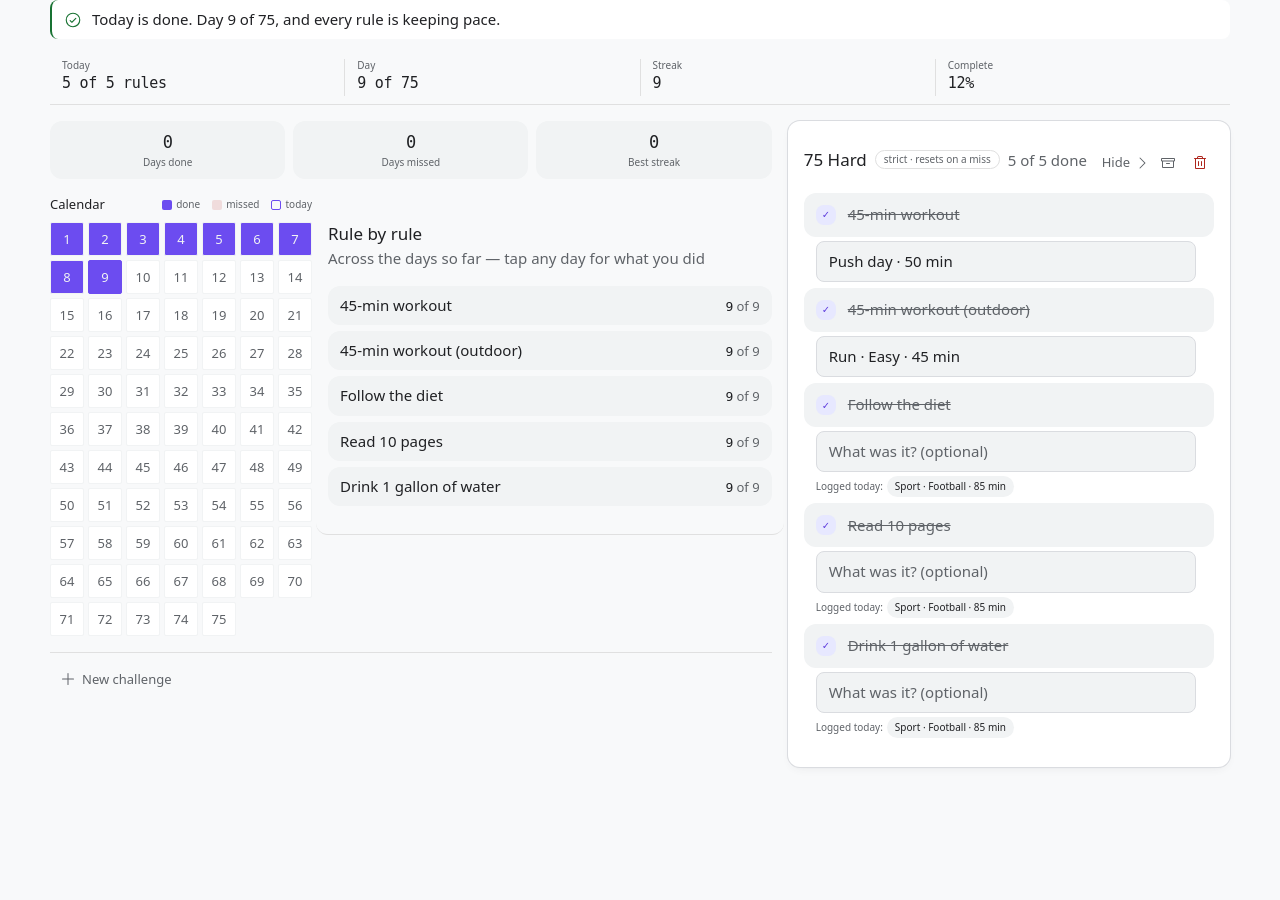
Scenario: Challenges · a day opens the day › shows a past day its own saved note — the one nothing could read
Click the button "6" at (257, 239), box top-left (240, 222), bottom-right (274, 256)
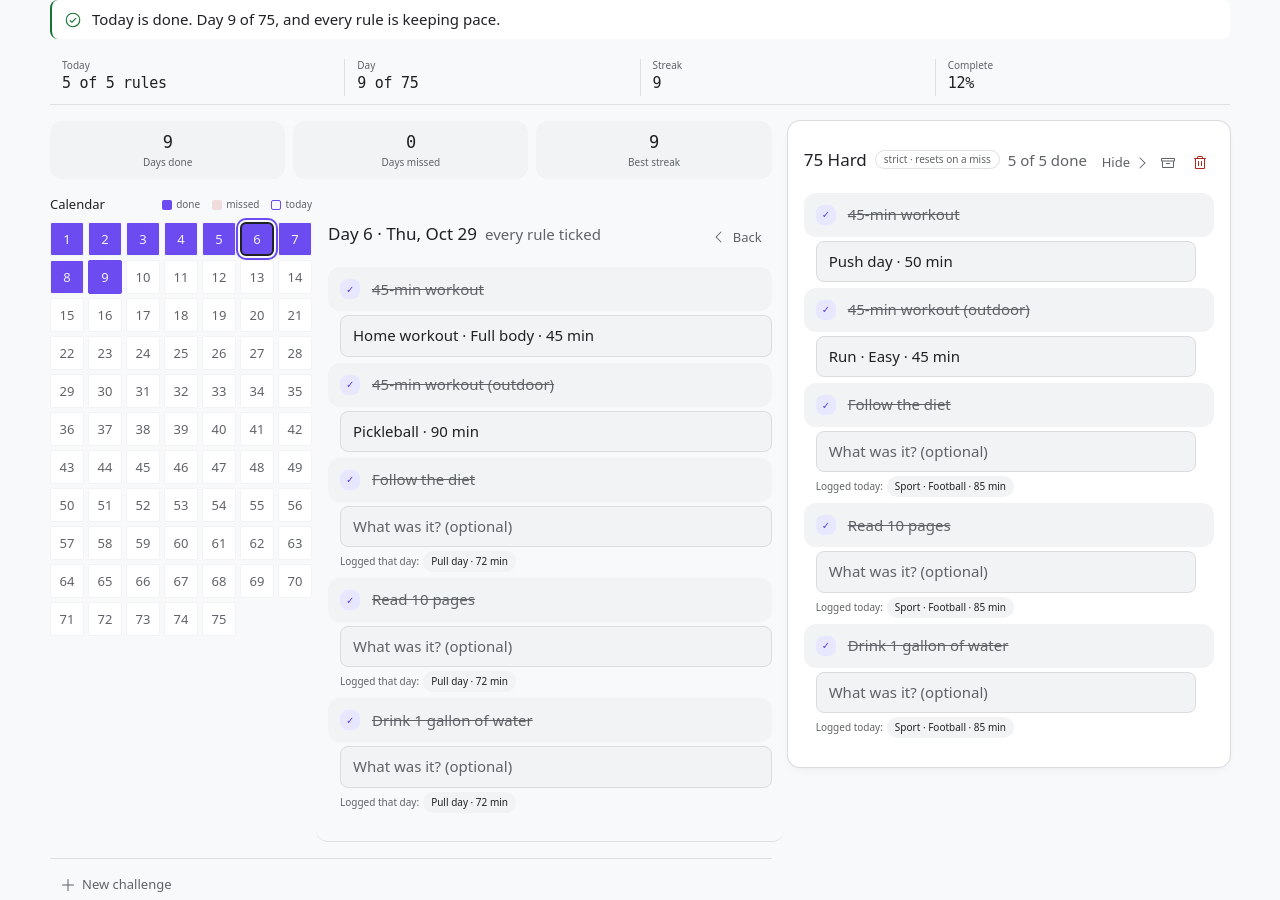
expect the 2nd field showing "Home workout · Full body · 45 min" is shown: met, box top-left (340, 315), bottom-right (772, 357)
